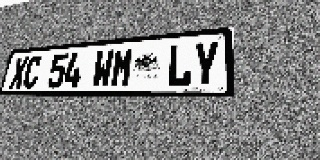4: (62, 52, 85, 88)
5: (46, 53, 69, 88)
C: (22, 55, 43, 89)
L: (166, 43, 193, 87)
M: (110, 48, 134, 88)
W: (91, 49, 115, 88)
X: (9, 57, 29, 89)
Y: (192, 40, 219, 87)
